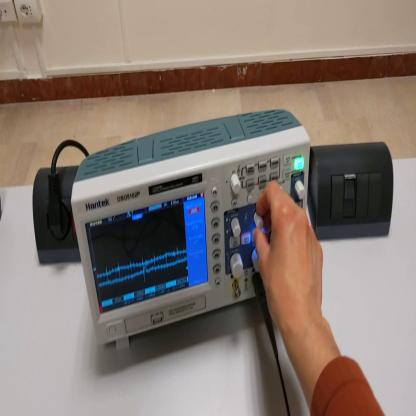hand: (253, 182, 327, 333)
oscilloscope: (72, 110, 311, 355)
socket: (33, 163, 82, 268)
